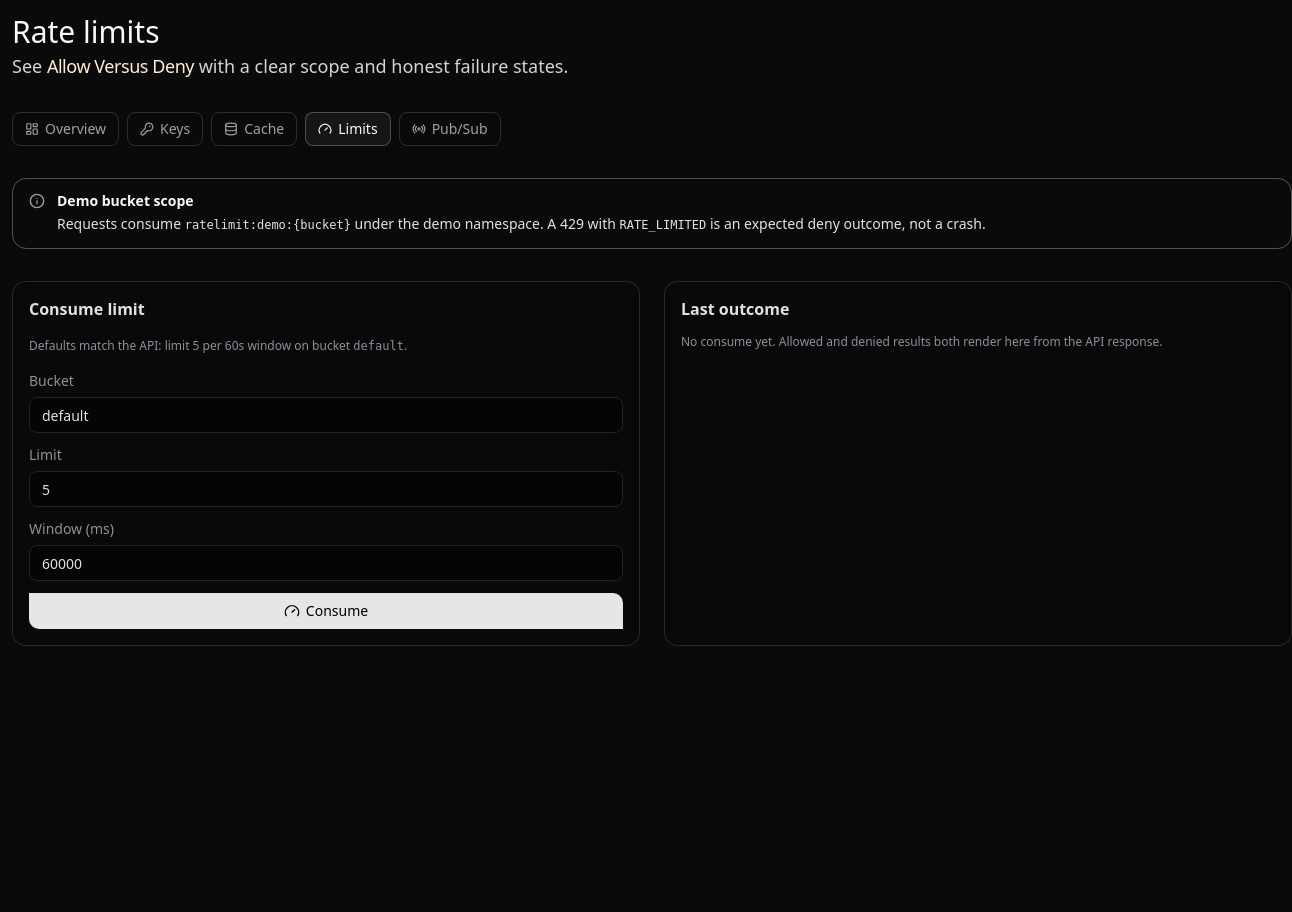
Test: LimitsLab › renders an allowed outcome from the API
Click the button "Consume" at (326, 611), box [29,593,623,629]
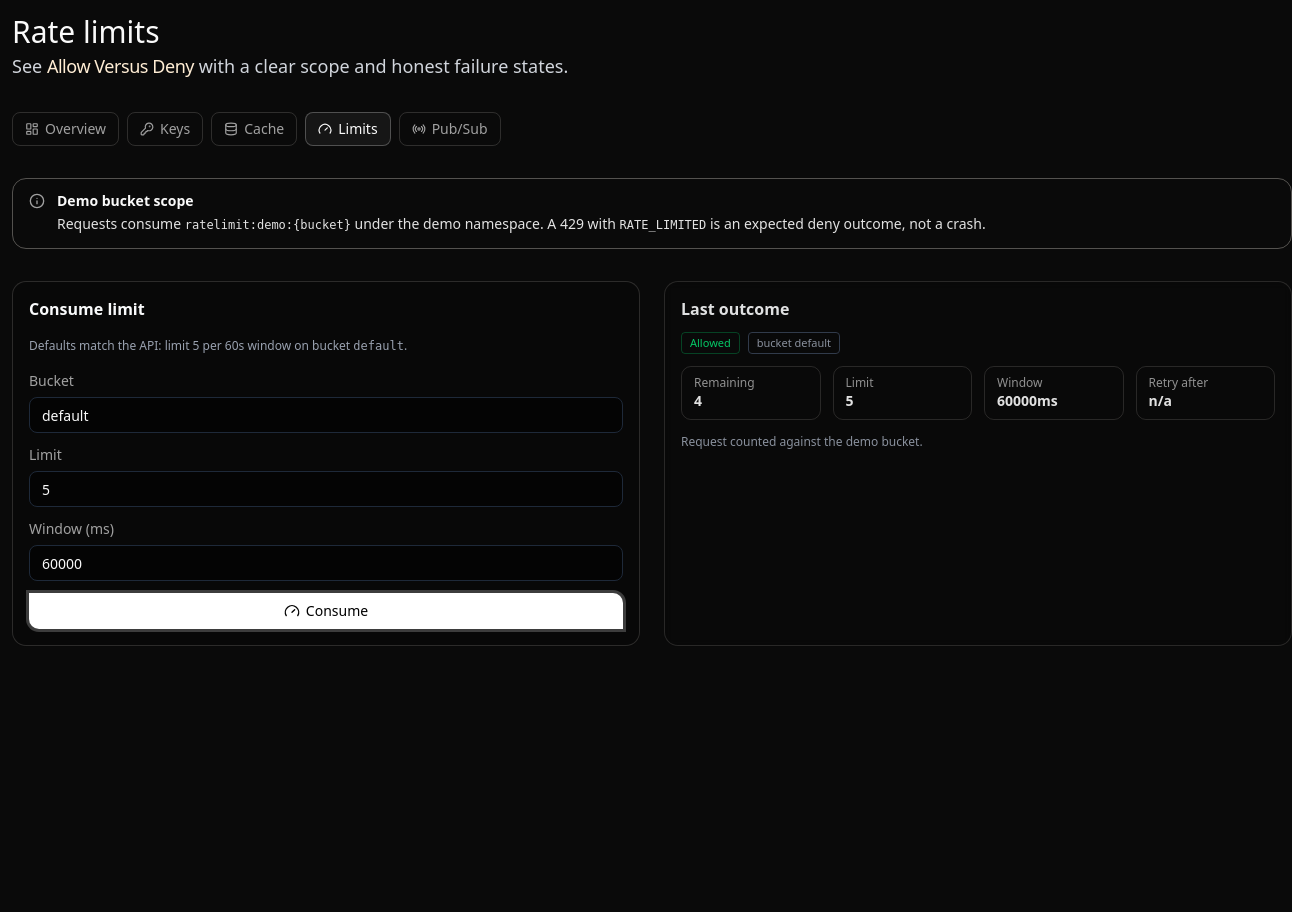
Expected: the text "Allowed" is shown, [681,332,740,354]
Result: the text "Request counted against the demo bucket." is shown at [681,433,923,450]
